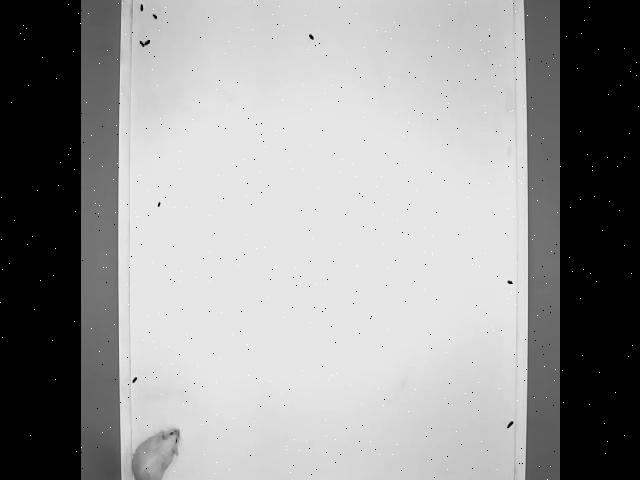Tikus: (128, 422, 184, 480)
